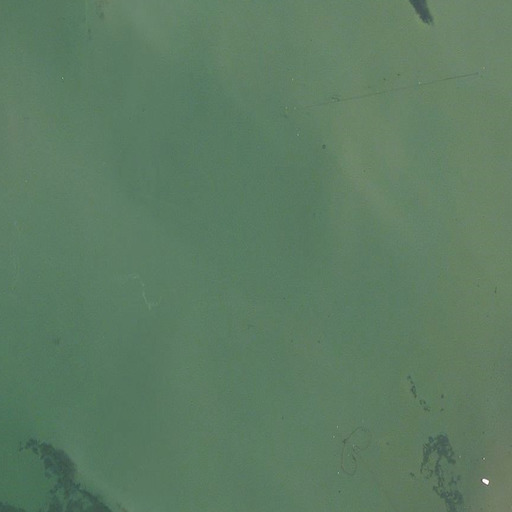ship: (481, 478, 491, 484)
